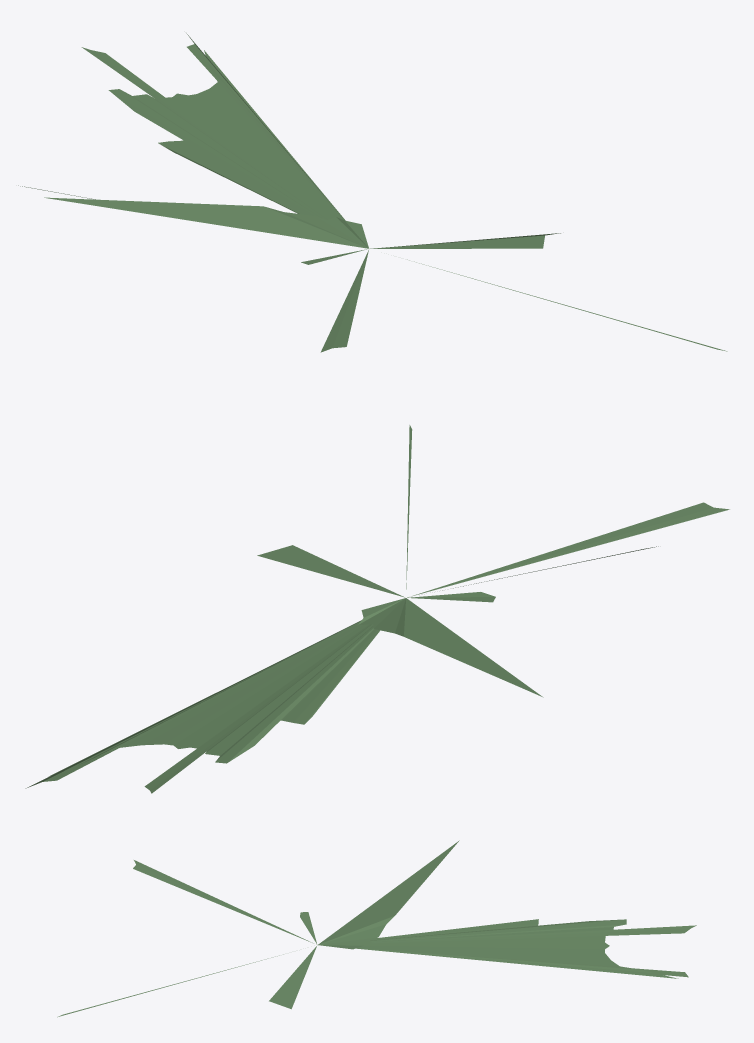
The model's file is c_1670_17828_forest.glb.
3 views of the same model, one above another, from view 1: azimuth 30°, elevation 25°; view 2: azimuth 150°, elevation 25°; view 3: azimuth 270°, elevation 25° (orthographic). The views are drawn at different scales.
Visible parts, largest first — view 1: geometry_0; view 2: geometry_0; view 3: geometry_0.
Boxes of the visible parts, x1=… form: geometry_0: x1=18, y1=33, x2=727, y2=352; geometry_0: x1=25, y1=425, x2=729, y2=793; geometry_0: x1=57, y1=840, x2=696, y2=1017.
Bounding box in the file's own units: 494 × 54.57 × 964.
